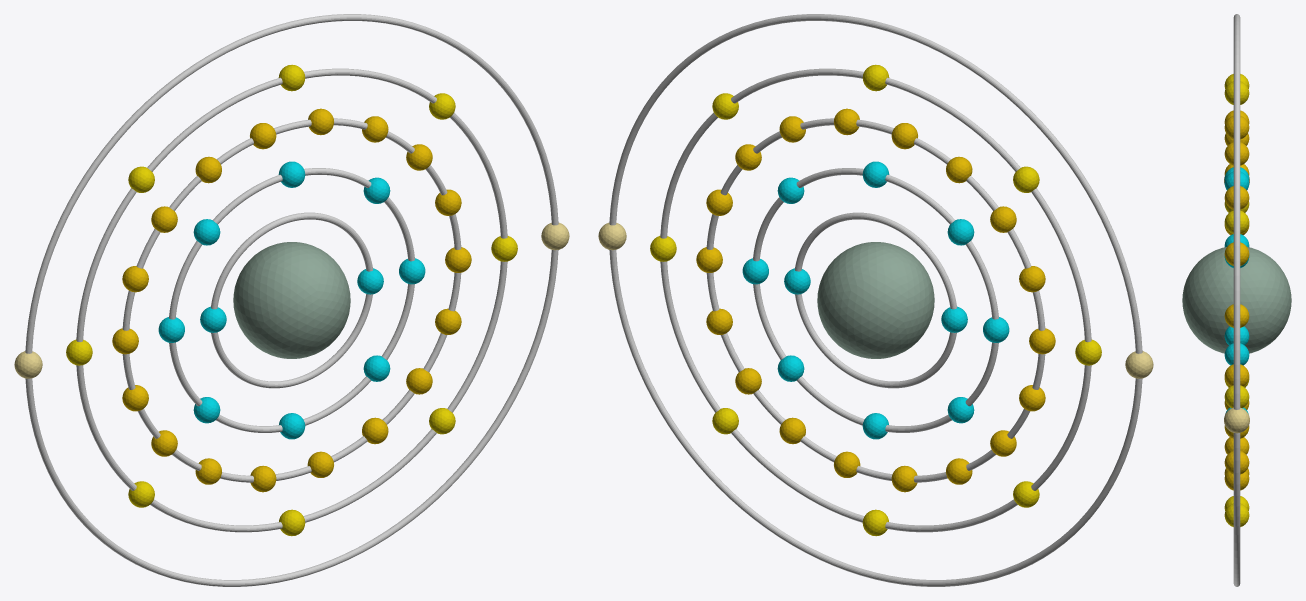
3 views of the same model, side by side, from view 1: azimuth 30°, elevation 25°; view 2: azimuth 150°, elevation 25°; view 3: azimuth 270°, elevation 25° (orthographic). The views are drawn at different scales.
Visible parts, largest first — view 1: Camada_5, Nucleo_Sr, Camada_4, Camada_3, Camada_2, Camada_1; view 2: Camada_5, Nucleo_Sr, Camada_4, Camada_3, Camada_2, Camada_1; view 3: Nucleo_Sr, Camada_5, e5_1, e3_4, e4_3, e3_2, e3_3, e3_5, e3_17, e4_2, e3_6, e4_8 (+7 smaller).
Boxes of the visible parts, x1=… form: Camada_5: x1=25, y1=14, x2=558, y2=586; Nucleo_Sr: x1=233, y1=242, x2=350, y2=358; Camada_4: x1=76, y1=68, x2=507, y2=532; Camada_3: x1=122, y1=118, x2=461, y2=482; Camada_2: x1=169, y1=168, x2=414, y2=432; Camada_1: x1=211, y1=212, x2=373, y2=388; Camada_5: x1=609, y1=14, x2=1142, y2=586; Nucleo_Sr: x1=817, y1=242, x2=934, y2=358; Camada_4: x1=660, y1=68, x2=1091, y2=532; Camada_3: x1=706, y1=118, x2=1045, y2=482; Camada_2: x1=753, y1=168, x2=998, y2=432; Camada_1: x1=794, y1=212, x2=956, y2=388; Nucleo_Sr: x1=1182, y1=247, x2=1291, y2=353; Camada_5: x1=1233, y1=14, x2=1240, y2=586; e5_1: x1=1224, y1=407, x2=1249, y2=433; e3_4: x1=1224, y1=186, x2=1249, y2=209; e4_3: x1=1224, y1=81, x2=1249, y2=104; e3_2: x1=1224, y1=304, x2=1249, y2=327; e3_3: x1=1224, y1=242, x2=1249, y2=265; e3_5: x1=1224, y1=142, x2=1249, y2=165; e3_17: x1=1224, y1=451, x2=1249, y2=474; e4_2: x1=1224, y1=210, x2=1249, y2=233; e3_6: x1=1224, y1=116, x2=1249, y2=139; e4_8: x1=1224, y1=503, x2=1249, y2=526.
Size of the model in its own units: 2.39 by 2.31 by 0.44.
